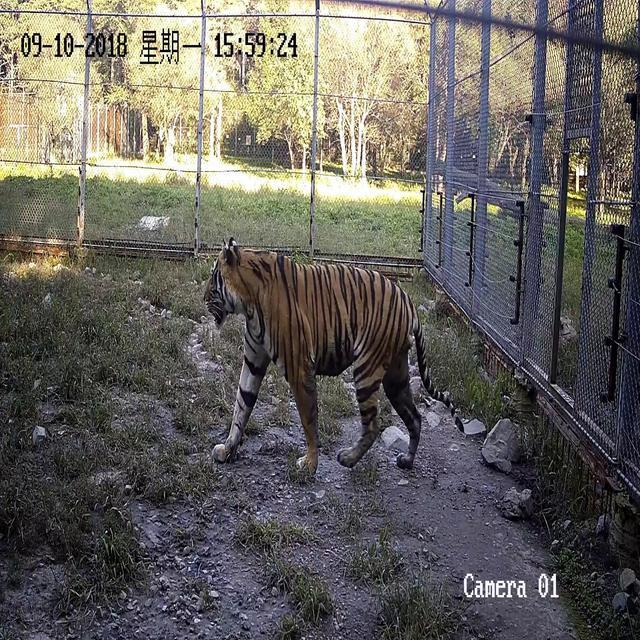tiger: (201, 235, 461, 477)
